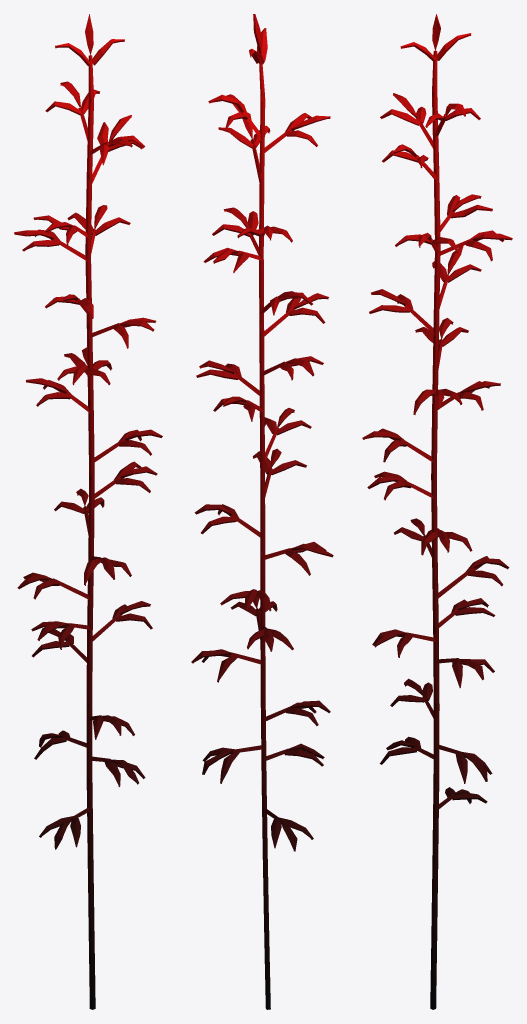
The model's file is TreeBamboo10.fbx.
3 renders of one model, left to right at view 1: azimuth 90°, elevation 25°; view 2: azimuth 150°, elevation 25°; view 3: azimuth 270°, elevation 25°, orthographic.
Visible parts, largest first — view 1: TreeBamboo10_LOD0; view 2: TreeBamboo10_LOD0; view 3: TreeBamboo10_LOD0.
Part boxes in pixels (<box>): TreeBamboo10_LOD0: <box>14,14,162,1009</box>; TreeBamboo10_LOD0: <box>191,14,333,1009</box>; TreeBamboo10_LOD0: <box>362,14,512,1009</box>.
Size of what is drawn, in the model's own units: 105 by 815 by 111.
